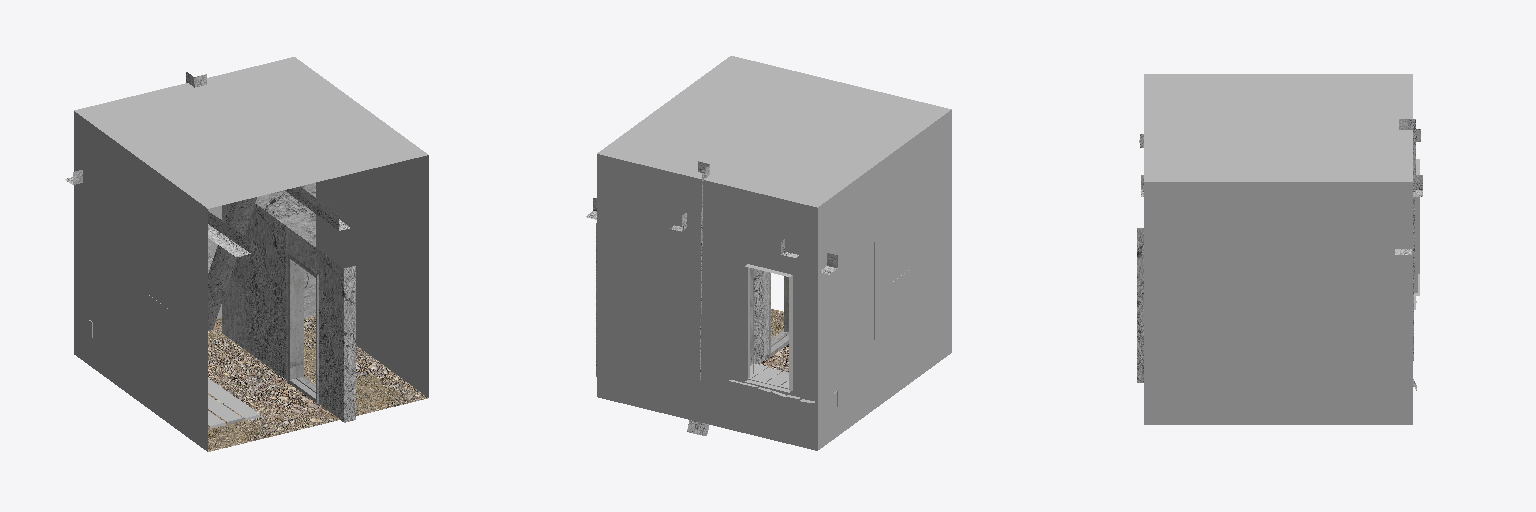
3 renders of one model, left to right at view 1: azimuth 30°, elevation 25°; view 2: azimuth 150°, elevation 25°; view 3: azimuth 270°, elevation 25°, orthographic.
Visible parts, largest first — view 1: OldBuilding; view 2: OldBuilding; view 3: OldBuilding.
Part boxes in pixels (left/top/right/bottom): OldBuilding: left=65, top=57, right=428, bottom=451; OldBuilding: left=586, top=56, right=951, bottom=450; OldBuilding: left=1137, top=74, right=1422, bottom=424.
Bounding box in the file's own units: 21.77 × 22.33 × 21.28.
Materials: 8 (5 with a texture image).